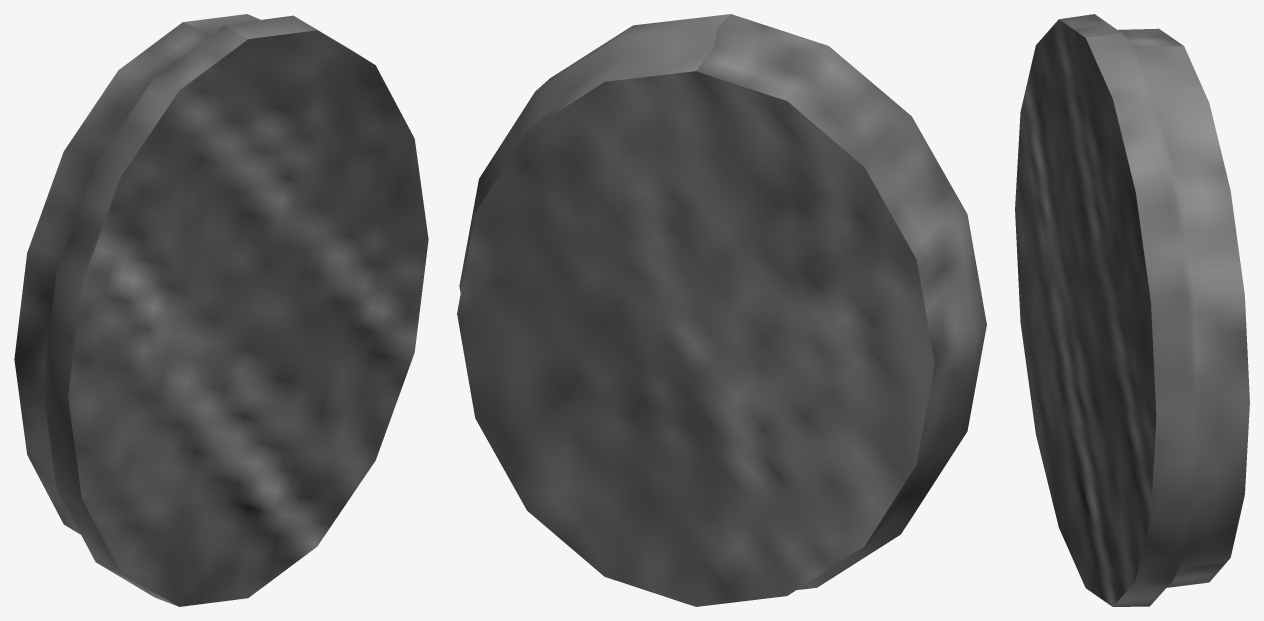
Rendered from LlantaIzq6.obj.
The picture shows the model from 3 angles, left to right: view 1: azimuth 30°, elevation 25°; view 2: azimuth 150°, elevation 25°; view 3: azimuth 270°, elevation 25°; orthographic projection. The views are drawn at different scales.
Visible parts, largest first — view 1: LlantaIzq6; view 2: LlantaIzq6; view 3: LlantaIzq6.
Boxes of the visible parts, x1,y1,x2,y2 form: LlantaIzq6: (14, 14, 428, 606); LlantaIzq6: (457, 14, 986, 606); LlantaIzq6: (1015, 14, 1249, 606).
Size of the model in its own units: 0.2179 by 0.2666 by 0.1024.
Materials: 1 (1 with a texture image).
